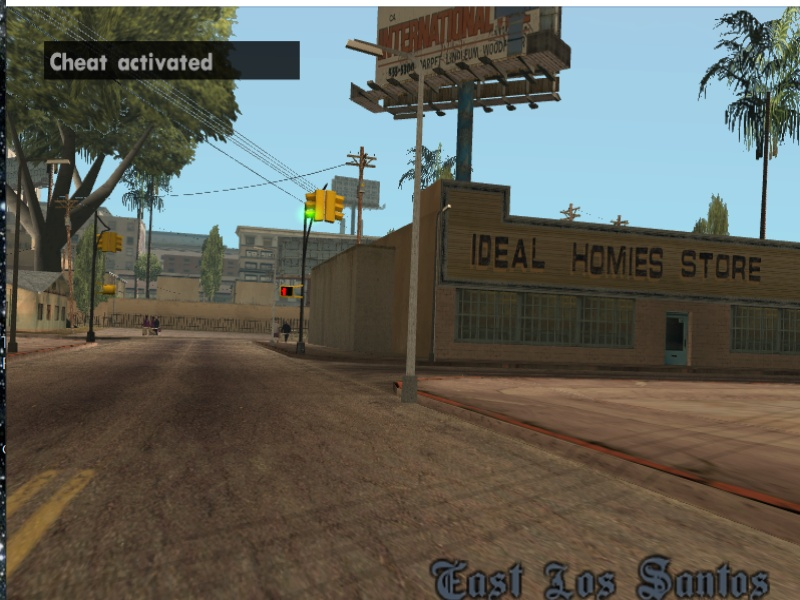person: (281, 321, 290, 342), (151, 317, 160, 336), (272, 318, 279, 341), (142, 317, 149, 337)
pole: (410, 62, 423, 399), (84, 216, 99, 342), (300, 213, 313, 356), (11, 155, 20, 356)
